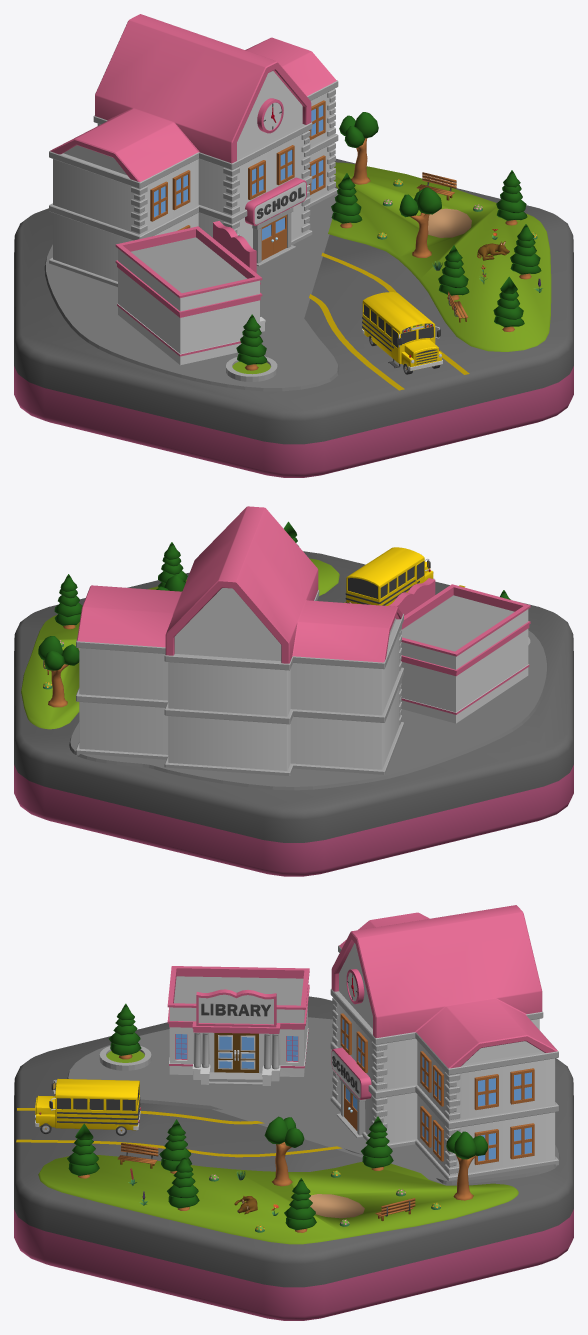
The model's file is Paper grade new meta.fbx.
The picture shows the model from 3 angles, top to bottom: view 1: azimuth 30°, elevation 25°; view 2: azimuth 150°, elevation 25°; view 3: azimuth 270°, elevation 25°; orthographic projection.
Parts seen in each view (by area): view 1: Ground, School, Library, Bus; view 2: Ground, School, Library, Bus; view 3: Ground, School, Library, Bus.
Boxes of the visible parts, x1,y1,x2,y2 form: Ground: (14,112,573,477); School: (49,14,338,286); Library: (115,221,265,365); Bus: (362,292,442,374); Ground: (14,521,573,876); School: (76,506,403,775); Library: (388,578,530,723); Bus: (345,547,434,605); Ground: (14,996,573,1320); School: (330,905,558,1180); Library: (167,966,309,1085); Bus: (35,1078,140,1135).
Size of the model in its own units: 642 by 297 by 576.
